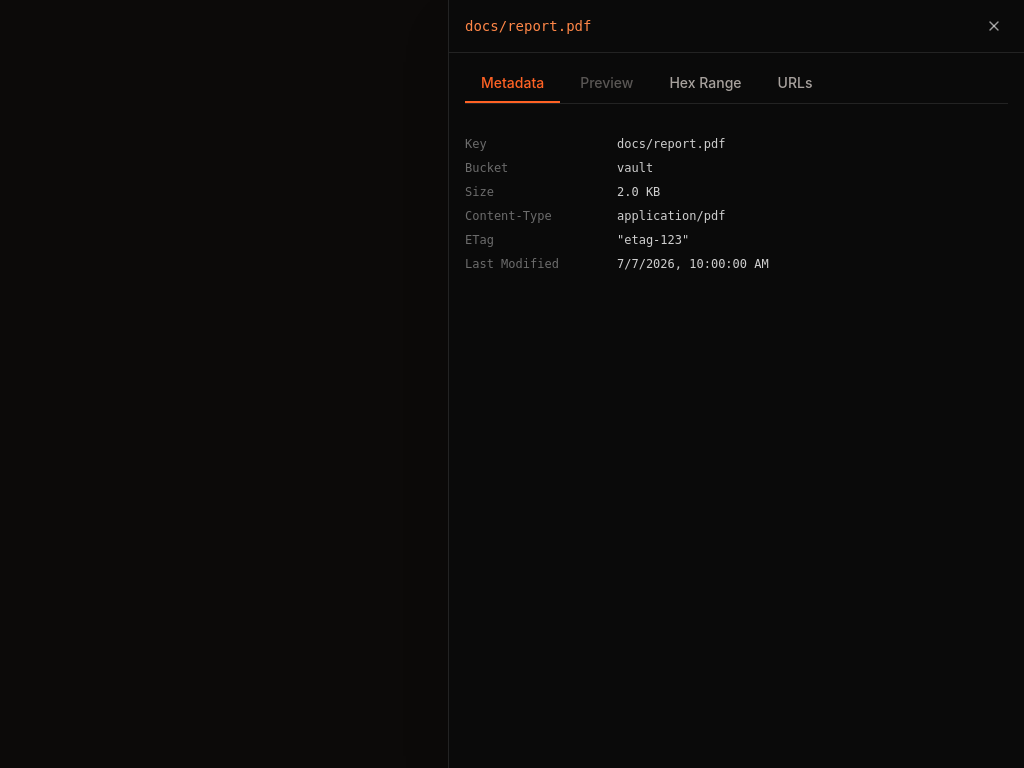
KeyDetailDrawer — URLs tab › renders the open-in-new-tab anchor for an http(s) public URL
What coordinates should you click on to do the following:
click the tab "URLs"
I would click on:
 (795, 84)
Its box is [762, 65, 828, 103].
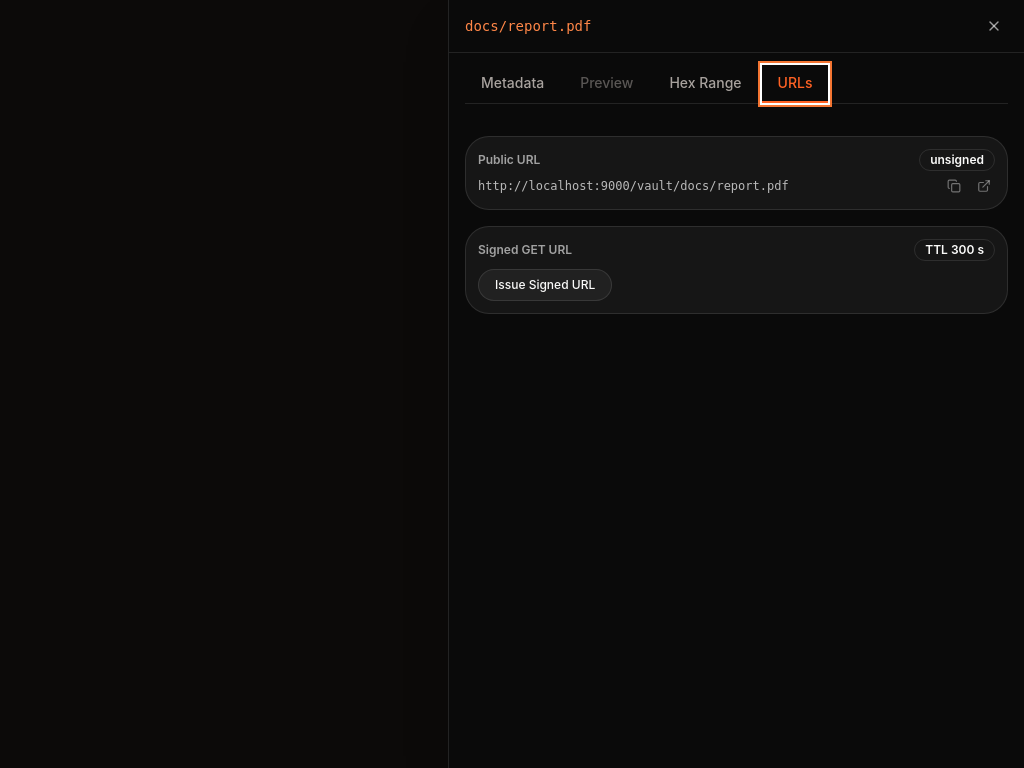
Expected: the text "Public URL" is shown, [478, 152, 540, 168]
Expected: the link named "open public url" is shown, [977, 179, 991, 193]
